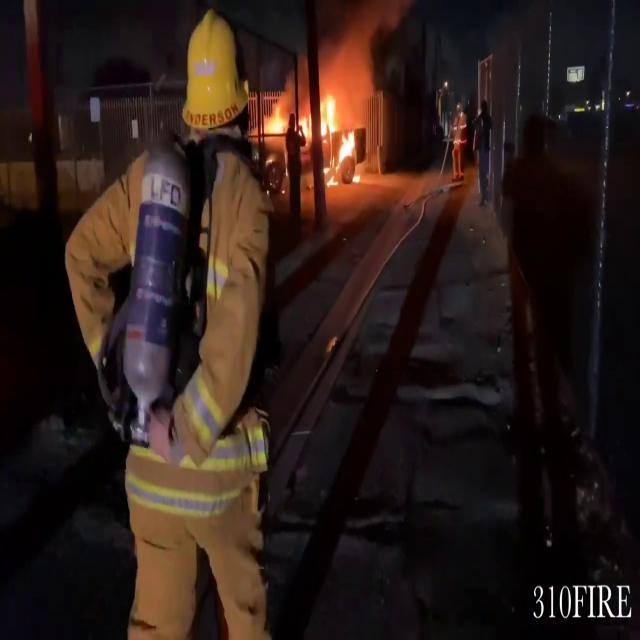Fire: (261, 76, 364, 184)
